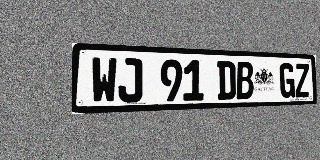1: (183, 60, 203, 101)
9: (161, 59, 182, 102)
B: (236, 62, 254, 99)
D: (217, 61, 236, 100)
G: (279, 63, 295, 98)
J: (118, 58, 142, 103)
W: (91, 57, 117, 104)
Z: (295, 63, 309, 98)
